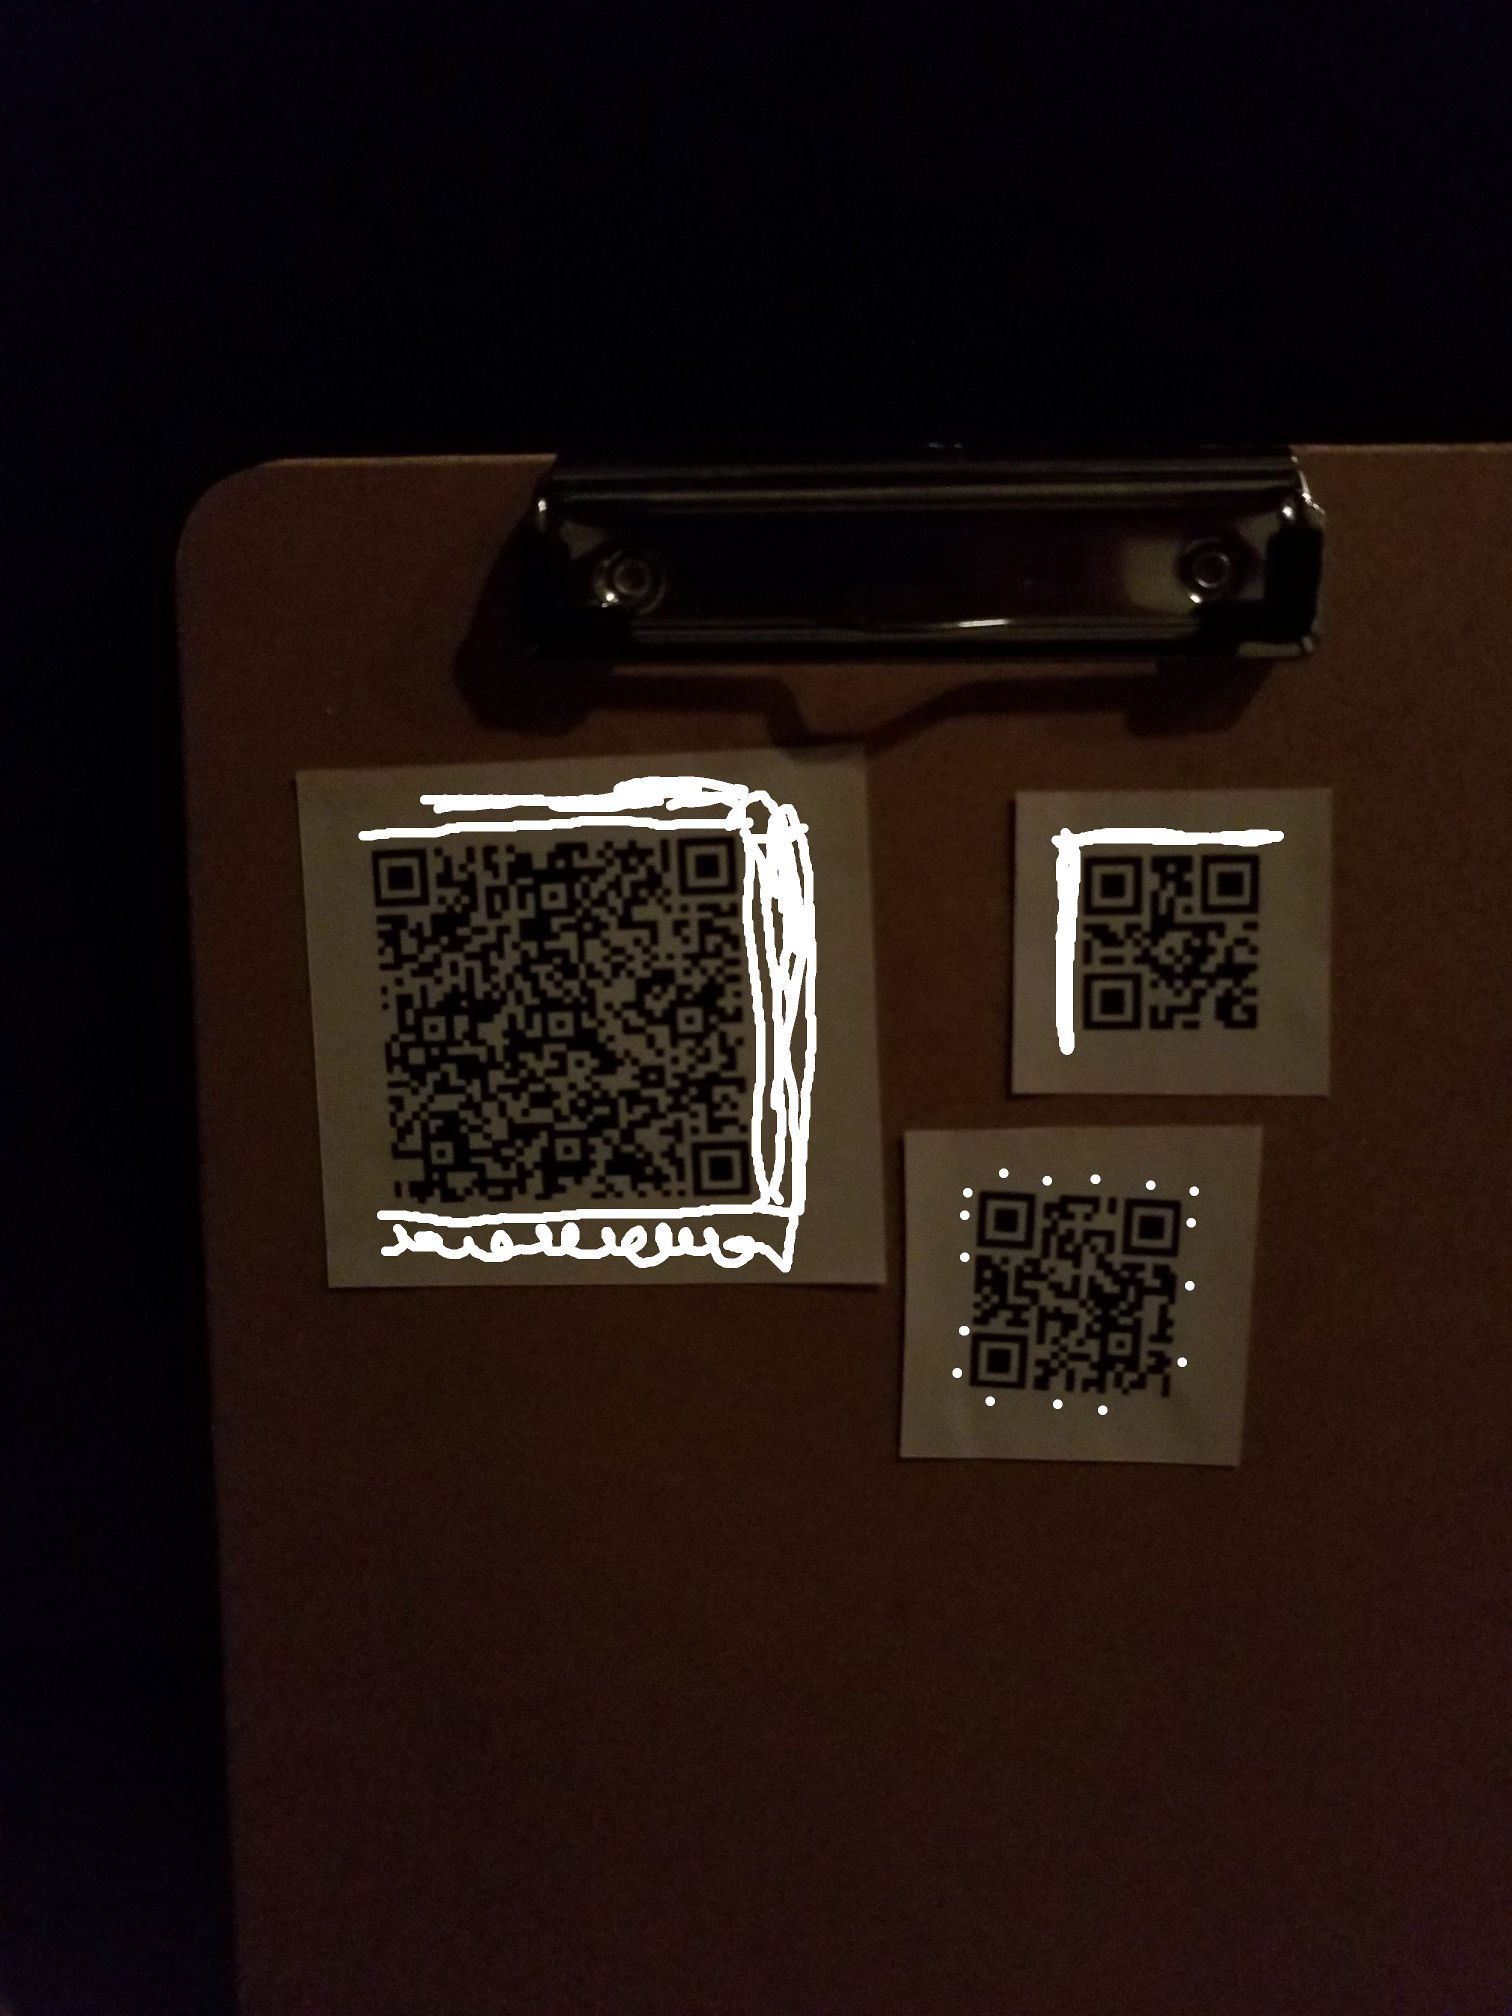QR_CODE: (341, 776, 802, 1243), (932, 1143, 1221, 1430), (1047, 808, 1301, 1057)
